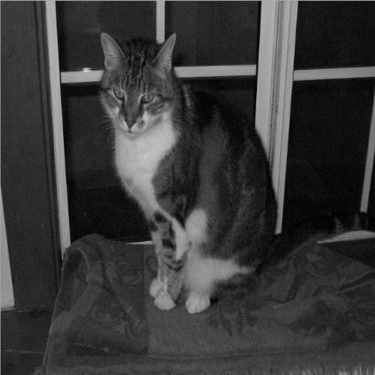cat: (67, 31, 285, 308)
